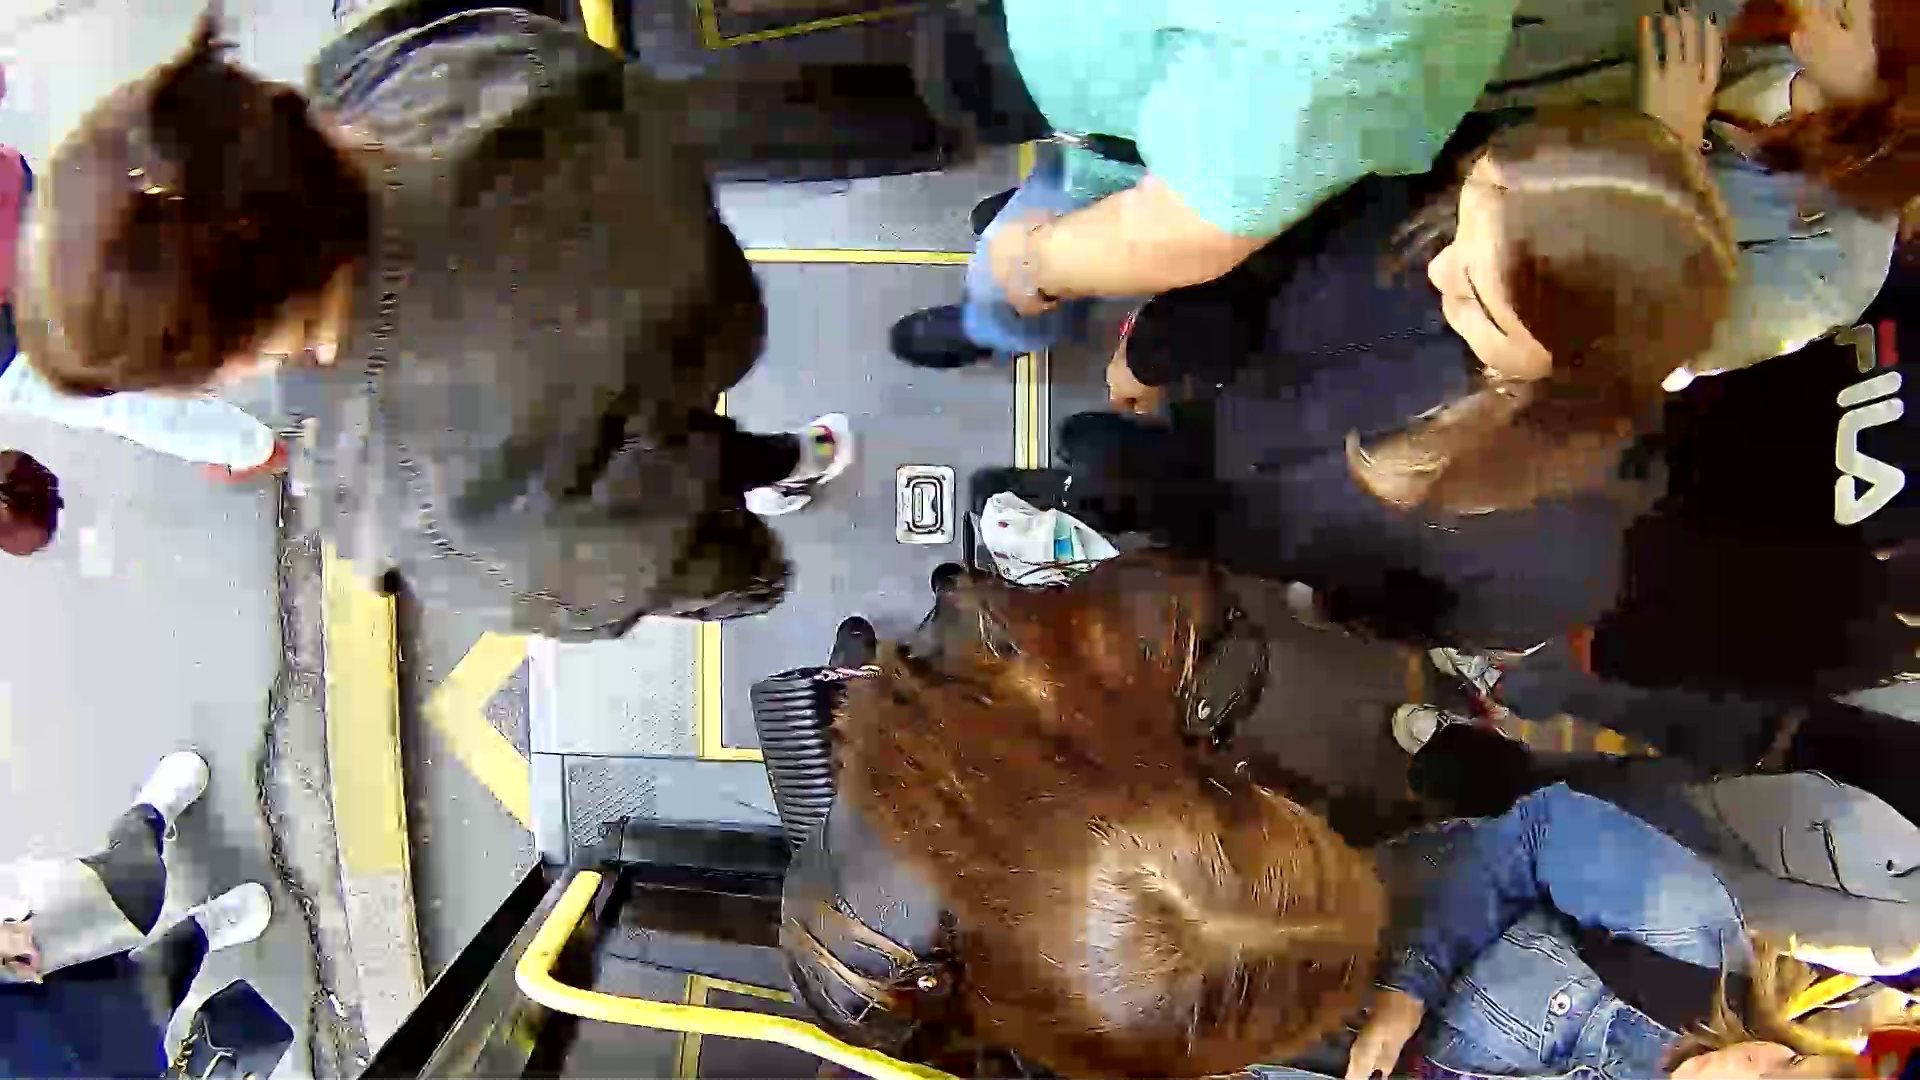person: (91, 51, 829, 624), (1070, 95, 1729, 726), (645, 537, 1384, 1068)
